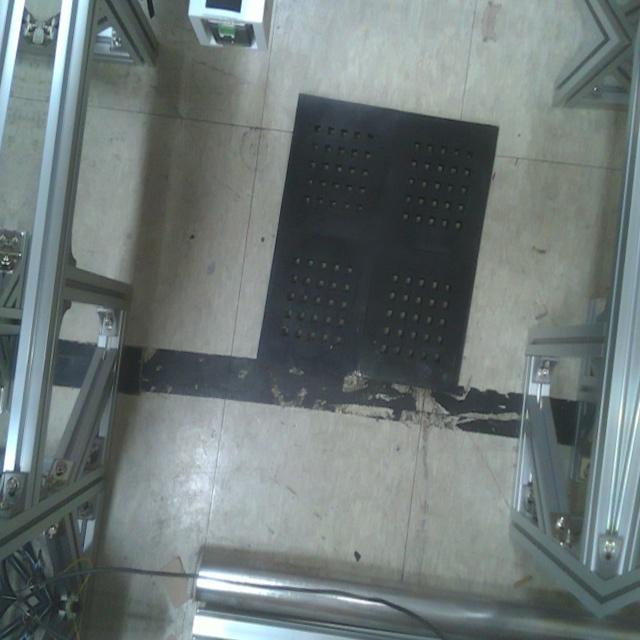pallet: (251, 90, 504, 398)
